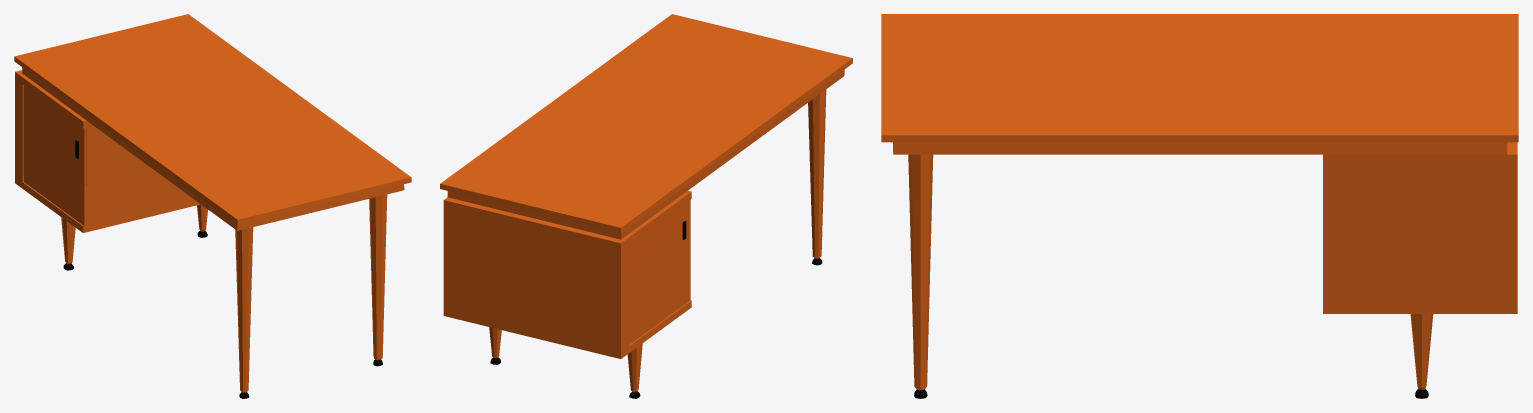
File: 70sTable.fbx
3 renders of one model, left to right at view 1: azimuth 30°, elevation 25°; view 2: azimuth 150°, elevation 25°; view 3: azimuth 270°, elevation 25°, orthographic. The views are drawn at different scales.
Visible parts, largest first — view 1: Table, Table.Dust, Table.Doors; view 2: Table, Table.Dust, Table.Doors; view 3: Table, Table.Dust.
Boxes of the visible parts, box(x1,y1,x2,y2) form: Table: box(14, 14, 411, 398); Table.Dust: box(16, 14, 410, 219); Table.Doors: box(23, 85, 86, 225); Table: box(440, 14, 852, 398); Table.Dust: box(441, 15, 850, 227); Table.Doors: box(629, 200, 690, 344); Table: box(881, 14, 1518, 398); Table.Dust: box(881, 14, 1518, 135).
Bounding box in the file's own units: 90 × 95 × 200.
